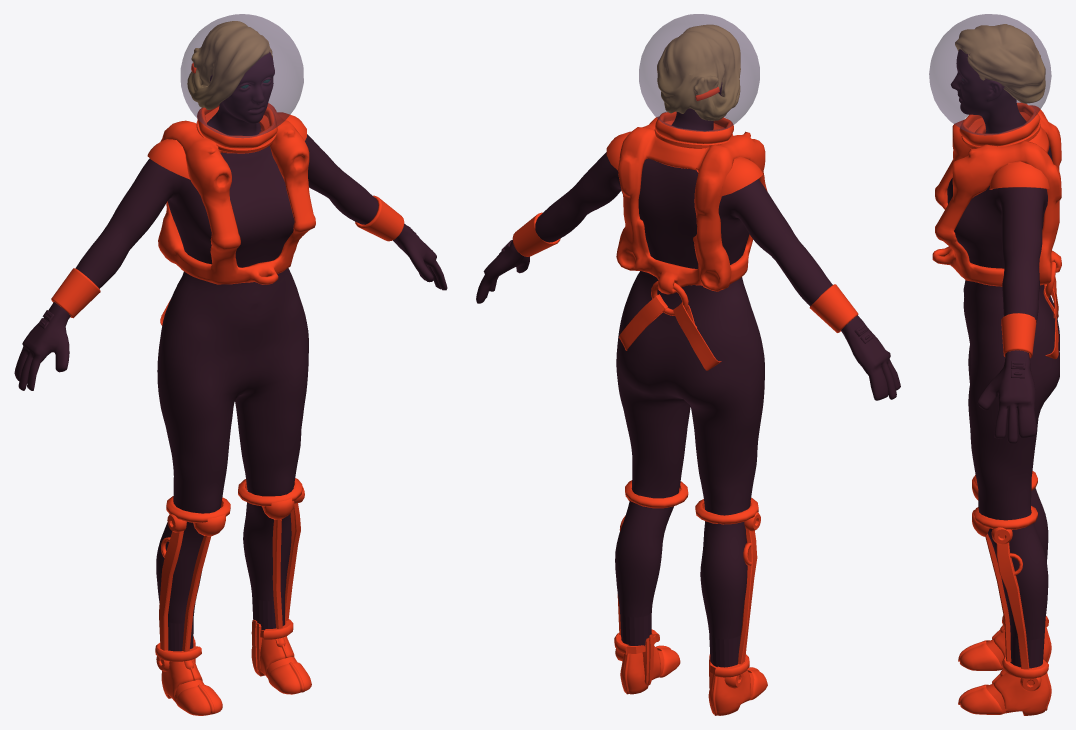
Rendered from astronaut.FBX.
3 renders of one model, left to right at view 1: azimuth 30°, elevation 25°; view 2: azimuth 150°, elevation 25°; view 3: azimuth 270°, elevation 25°, orthographic.
Parts seen in each view (by area): view 1: astronaut_body, helmet; view 2: astronaut_body, helmet; view 3: astronaut_body, helmet.
Part boxes in pixels (x1,y1,x2,y2): astronaut_body: (14, 21, 447, 715); helmet: (180, 14, 303, 148); astronaut_body: (476, 24, 900, 715); helmet: (639, 14, 759, 143); astronaut_body: (932, 24, 1061, 715); helmet: (929, 14, 1051, 146).
Size of the model in its own units: 1.19 by 1.82 by 0.3279.
